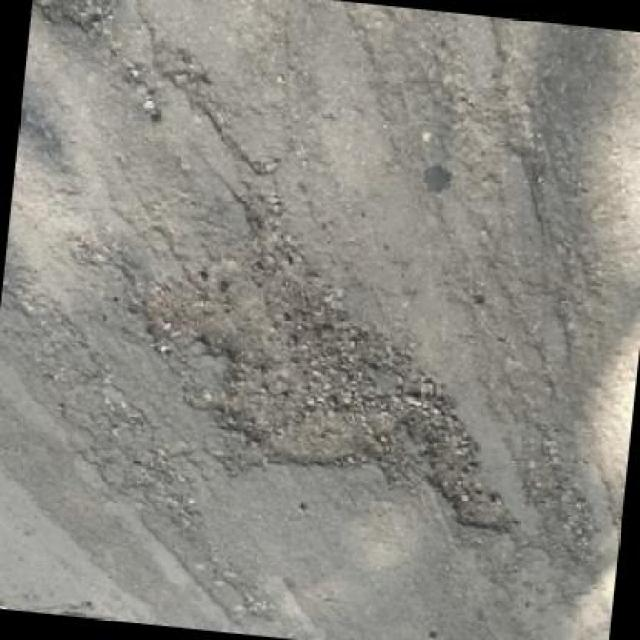pothole: (109, 200, 462, 505), (415, 381, 531, 537)
